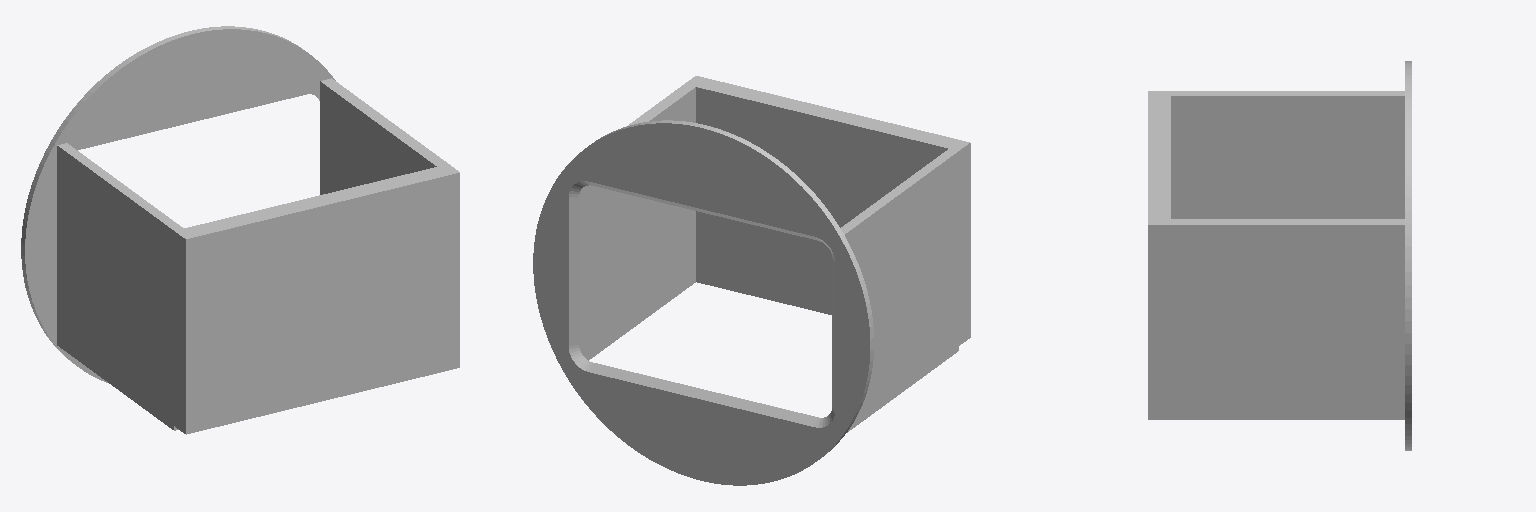
The model's file is gimbalcover.obj.
The picture shows the model from 3 angles: view 1: azimuth 30°, elevation 25°; view 2: azimuth 150°, elevation 25°; view 3: azimuth 270°, elevation 25°; orthographic projection.
Visible parts, largest first — view 1: GimbalCover; view 2: GimbalCover; view 3: GimbalCover.
Part boxes in pixels (left/top/right/bottom): GimbalCover: left=21, top=26, right=459, bottom=434; GimbalCover: left=533, top=76, right=970, bottom=485; GimbalCover: left=1148, top=61, right=1411, bottom=450.
Bounding box in the file's own units: 49.97 × 50 × 34.